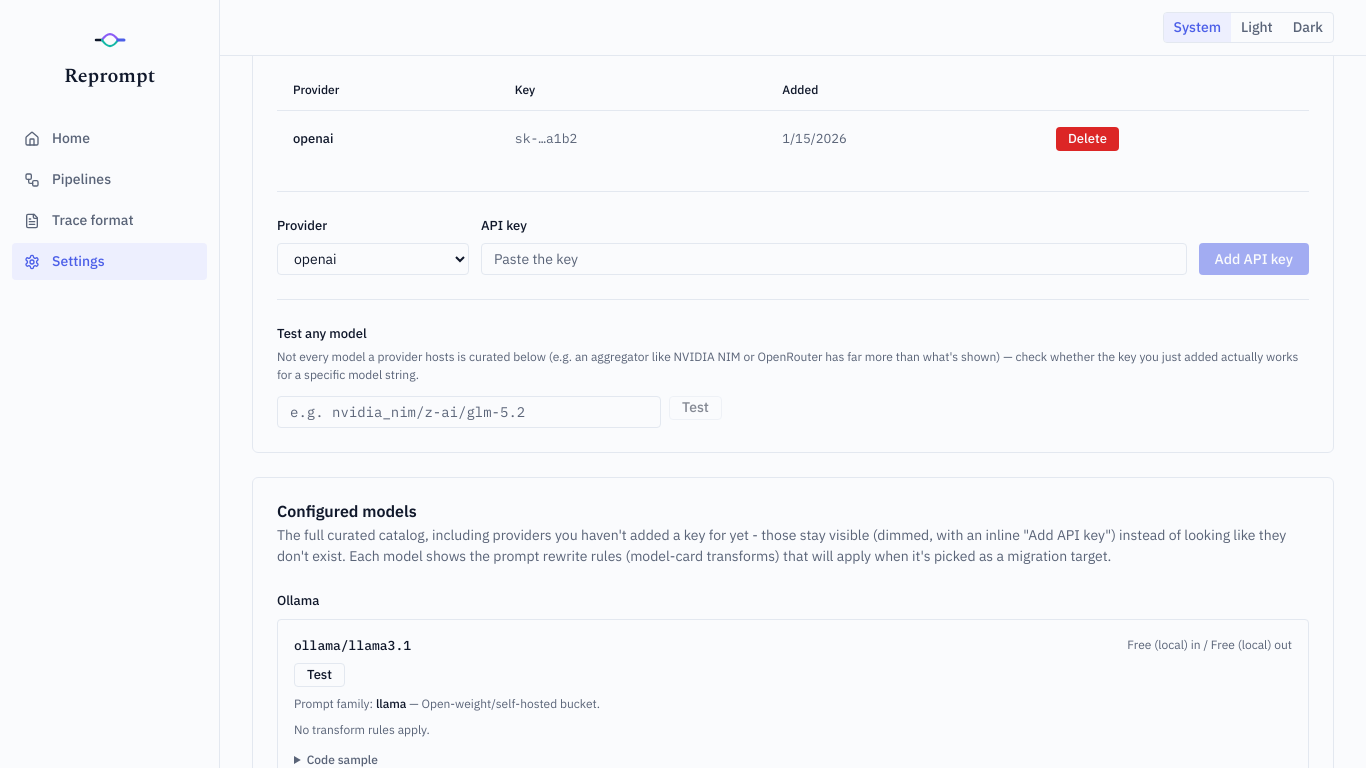
Scenario: Settings › lets a user test any model string, not just ones in the curated list
(page scrolled)
Expected: the text "ollama/llama3.1" is shown, [294,636,411,655]
Type "nvidia_nim/z-ai/glm-5.2" into the field named "Model string to test" at coordinates (469, 412), box [277,396,661,428]
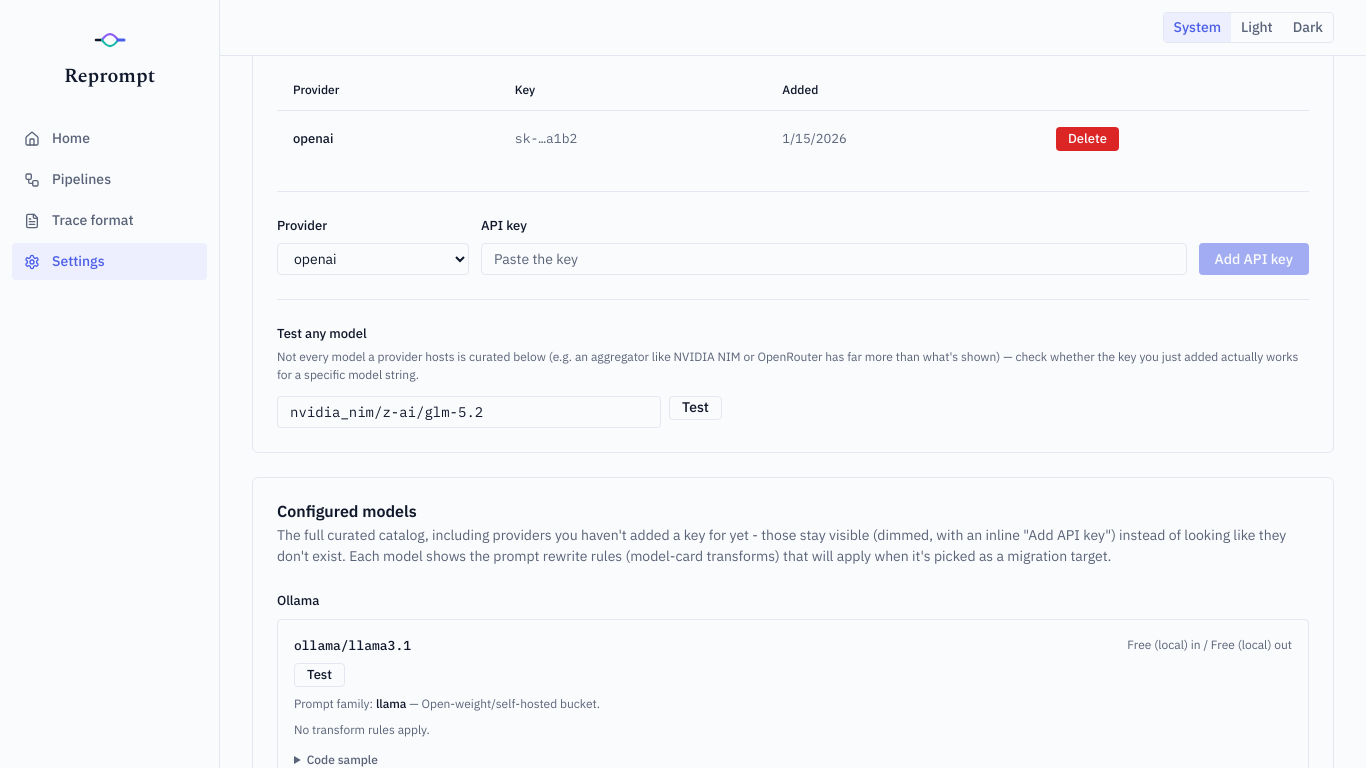
Click the button "Test" below "sk-…" at coordinates (695, 408), box [669,396,722,420]
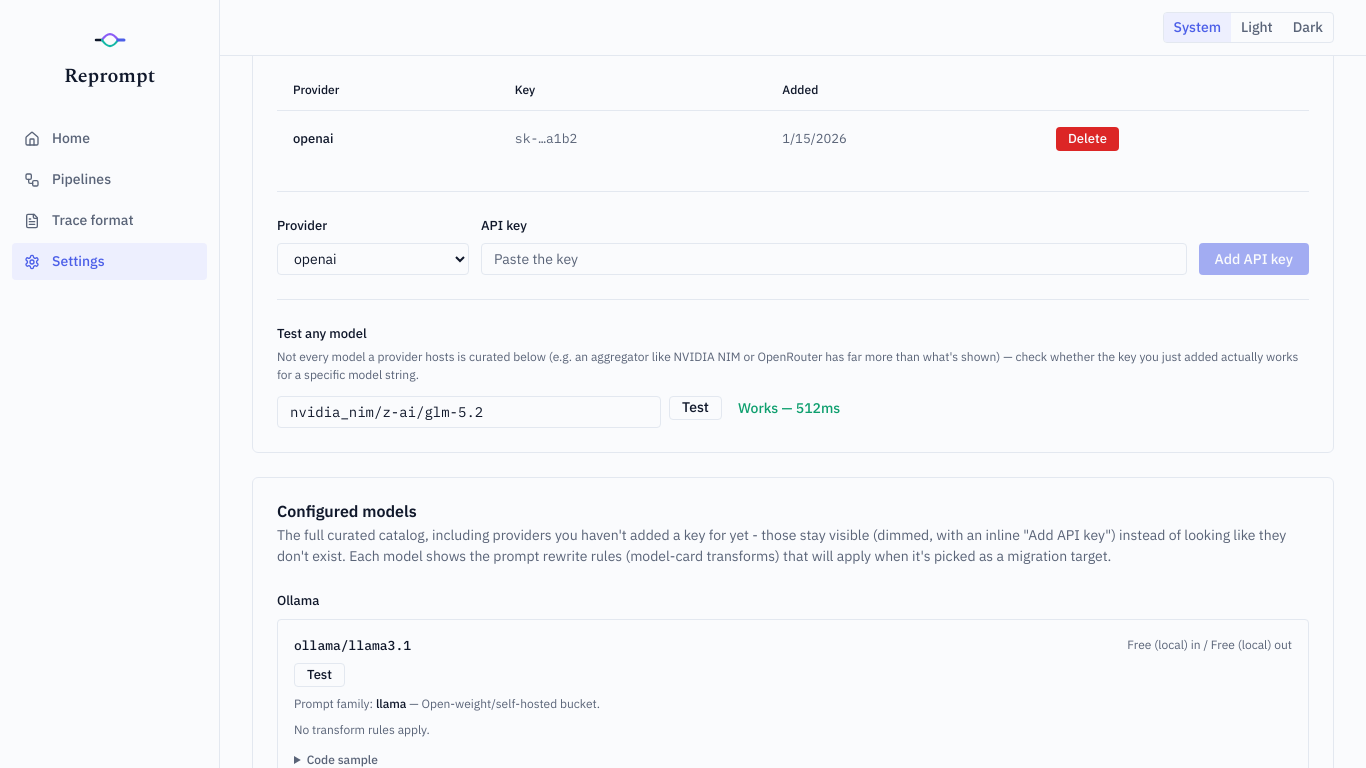
Result: the text "Works — 512ms" is shown at [730,396,848,421]
